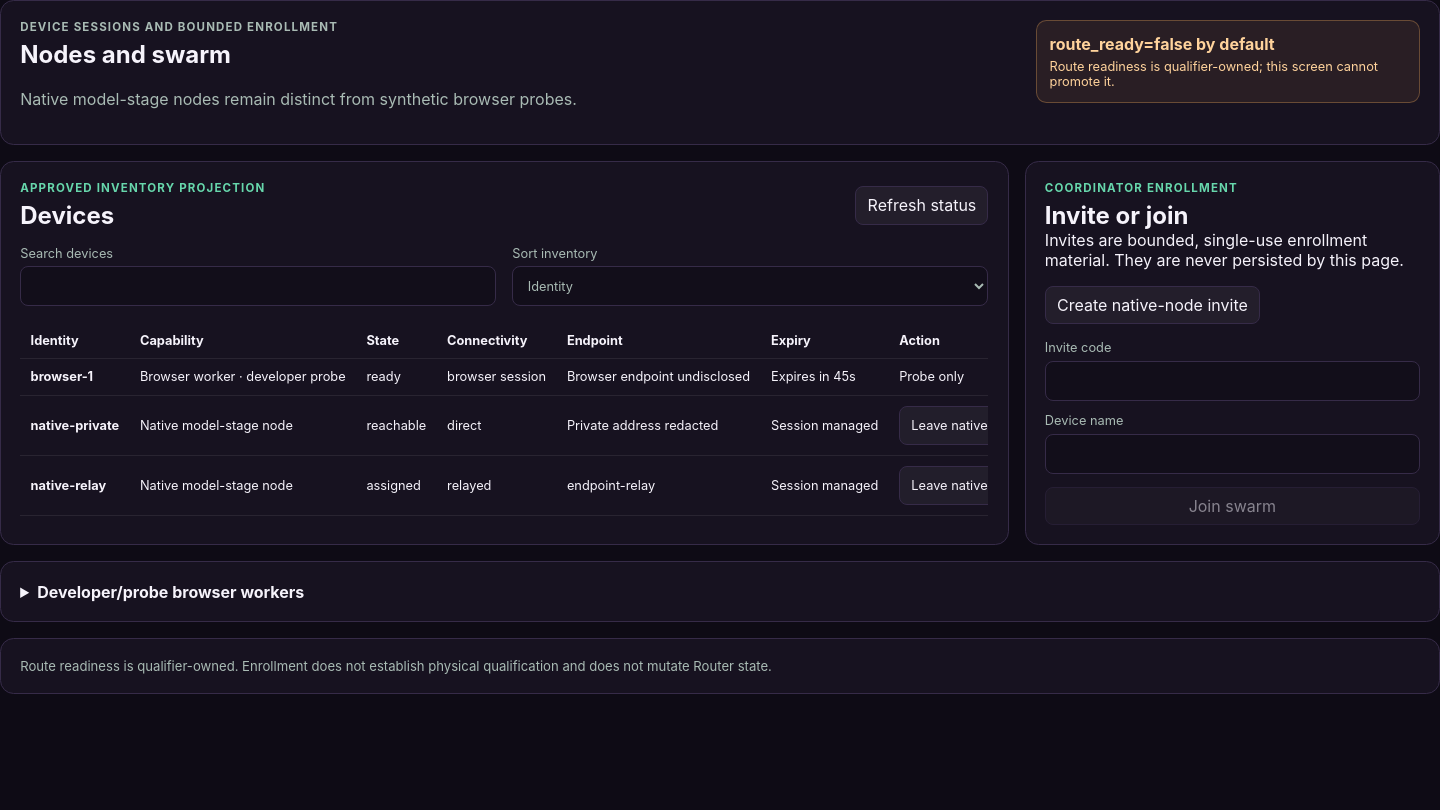
Test: SwarmWorkspace › renders searchable product-native inventory with truthful capability boundaries
Expected: the heading "Nodes and swarm" is shown, [20,40,231,69]
Expected: the text "Native model-stage node" is shown 2 times, [130,395,356,456]; [130,456,356,516]
Type "relayed" into the search field labelled "Search devices".
click(258, 286); type("relayed")  # box [20,266,496,306]
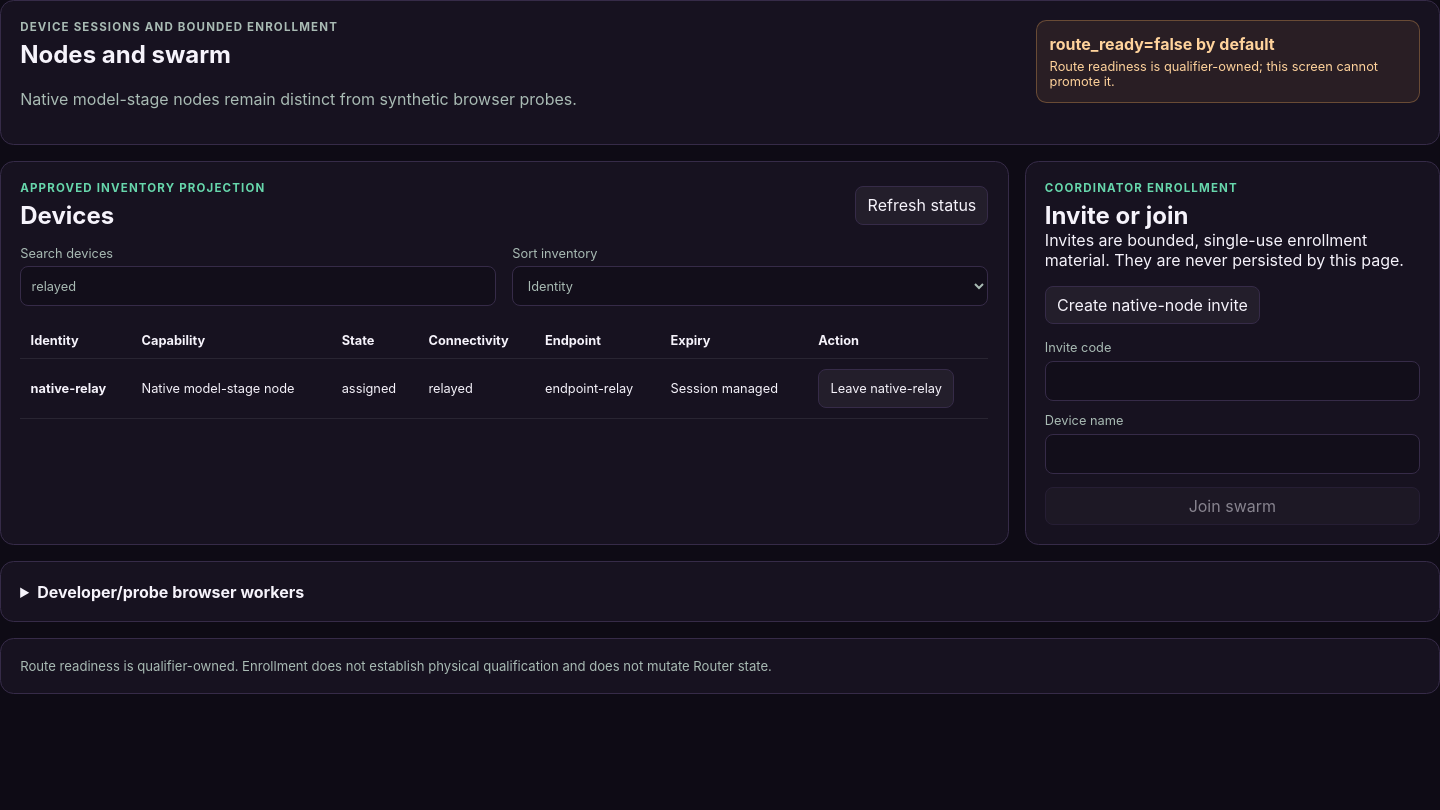
Expected: the column heading "native-relay" is shown, [20,358,131,419]
Now the column heading "native-private" is gone
